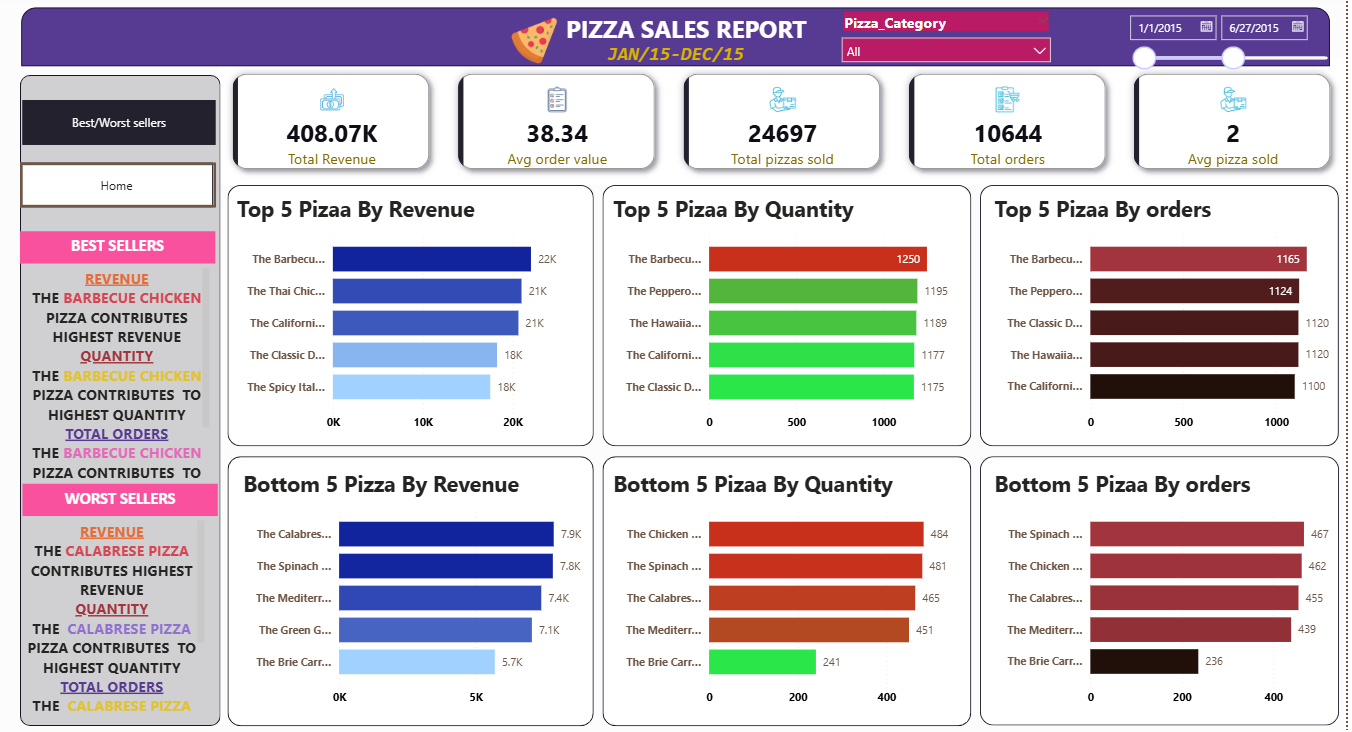

The page's visual inventory and layout, read from the dashboard file:
{"tool":"powerbi","page":{"name":"Best/Worst sellers","canvas":[1500,820],"ordinal":1},"visuals":[{"type":"cardVisual","fields":{"Data":["pizza_sales.Total Revenue","pizza_sales.Avg order value","pizza_sales.Total pizzas sold","pizza_sales.Total orders","pizza_sales.Avg pizza sold"]},"box":[242.3,65.5,1257.6,140.7],"z":0},{"type":"shape","box":[23.7,8.4,1458.1,65.5],"z":1000},{"type":"textbox","box":[596.1,8.4,337,55.7],"z":2000},{"type":"textbox","box":[661.5,41.8,182.4,41.8],"z":3000},{"type":"image","box":[564,12.5,62.7,65.5],"z":4000},{"type":"shape","box":[253.5,508.3,408.1,300.8],"z":5000},{"type":"shape","box":[671.3,206.1,410.8,291.1],"z":6000},{"type":"shape","box":[1091.9,206.1,399.7,291.1],"z":7000},{"type":"shape","box":[22.5,83.6,223.5,725.2],"z":8000},{"type":"textbox","box":[25.1,539,217.3,36.2],"z":9000},{"type":"textbox","box":[29.2,293.9,208.9,245.1],"z":10000},{"type":"textbox","box":[22.3,257.6,217.3,36.2],"z":11000},{"type":"textbox","box":[23.7,575.2,208.9,221.4],"z":12000},{"type":"slicer","fields":{"Values":["pizza_sales.pizza_category"]},"box":[927.5,8.4,253.5,299.4],"z":13000},{"type":"shape","box":[253.5,206.1,408.1,291.1],"z":14000},{"type":"shape","box":[671.3,508.3,410.8,300.8],"z":15000},{"type":"shape","box":[1091.4,508.6,400,300],"z":16000},{"type":"barChart","title":"Top 5 Pizaa By Revenue","fields":{"Category":["pizza_sales.pizza_name"],"Y":["pizza_sales.Total Revenue"]},"box":[258.9,215.5,397.2,273.4],"z":17000},{"type":"barChart","title":"Bottom 5 Pizza By Revenue","fields":{"Category":["pizza_sales.pizza_name"],"Y":["pizza_sales.Total Revenue"]},"box":[265.3,522.6,397.2,273.4],"z":18000},{"type":"barChart","title":"Top 5 Pizaa By Quantity","fields":{"Category":["pizza_sales.pizza_name"],"Y":["pizza_sales.Total pizzas sold"]},"box":[678.6,215.5,397.2,273.4],"z":19000},{"type":"barChart","title":"Bottom 5 Pizaa By Quantity","fields":{"Category":["pizza_sales.pizza_name"],"Y":["pizza_sales.Total pizzas sold"]},"box":[678.6,522.6,397.2,273.4],"z":20000},{"type":"barChart","title":"Top 5 Pizaa By  orders","fields":{"Category":["pizza_sales.pizza_name"],"Y":["pizza_sales.Total orders"]},"box":[1102.9,215.7,397.1,272.9],"z":21000},{"type":"barChart","title":"Bottom 5 Pizaa By orders","fields":{"Category":["pizza_sales.pizza_name"],"Y":["pizza_sales.Total orders"]},"box":[1102.9,522.9,397.1,272.9],"z":22000},{"type":"slicer","fields":{"Values":["pizza_sales.order_date"]},"box":[1246.4,7,253.5,299.4],"z":23000},{"type":"pageNavigator","box":[25.1,111.4,215.9,50.1],"z":24000},{"type":"pageNavigator","box":[22.3,181,215.9,50.1],"z":25000},{"type":"actionButton","box":[22.3,181,218.6,50.1],"z":26000}]}

Visuals, with their boxes in screenshot pixels (x1, y1, x2, y2), scaled from the page's 1500x820 canvas onto the 1352x732 screenshot:
cardVisual - pizza_sales.Total Revenue x pizza_sales.Avg order value: {"x1": 218, "y1": 58, "x2": 1351, "y2": 184}
shape: {"x1": 21, "y1": 7, "x2": 1336, "y2": 66}
textbox: {"x1": 537, "y1": 7, "x2": 841, "y2": 57}
textbox: {"x1": 596, "y1": 37, "x2": 761, "y2": 75}
image: {"x1": 508, "y1": 11, "x2": 565, "y2": 70}
shape: {"x1": 228, "y1": 454, "x2": 596, "y2": 722}
shape: {"x1": 605, "y1": 184, "x2": 975, "y2": 444}
shape: {"x1": 984, "y1": 184, "x2": 1344, "y2": 444}
shape: {"x1": 20, "y1": 75, "x2": 222, "y2": 722}
textbox: {"x1": 23, "y1": 481, "x2": 218, "y2": 513}
textbox: {"x1": 26, "y1": 262, "x2": 215, "y2": 481}
textbox: {"x1": 20, "y1": 230, "x2": 216, "y2": 262}
textbox: {"x1": 21, "y1": 513, "x2": 210, "y2": 711}
slicer - pizza_sales.pizza_category: {"x1": 836, "y1": 7, "x2": 1064, "y2": 275}
shape: {"x1": 228, "y1": 184, "x2": 596, "y2": 444}
shape: {"x1": 605, "y1": 454, "x2": 975, "y2": 722}
shape: {"x1": 984, "y1": 454, "x2": 1344, "y2": 722}
"Top 5 Pizaa By Revenue" barChart: {"x1": 233, "y1": 192, "x2": 591, "y2": 436}
"Bottom 5 Pizza By Revenue" barChart: {"x1": 239, "y1": 467, "x2": 597, "y2": 711}
"Top 5 Pizaa By Quantity" barChart: {"x1": 612, "y1": 192, "x2": 970, "y2": 436}
"Bottom 5 Pizaa By Quantity" barChart: {"x1": 612, "y1": 467, "x2": 970, "y2": 711}
"Top 5 Pizaa By  orders" barChart: {"x1": 994, "y1": 193, "x2": 1351, "y2": 436}
"Bottom 5 Pizaa By orders" barChart: {"x1": 994, "y1": 467, "x2": 1351, "y2": 710}
slicer - pizza_sales.order_date: {"x1": 1123, "y1": 6, "x2": 1351, "y2": 274}
pageNavigator: {"x1": 23, "y1": 99, "x2": 217, "y2": 144}
pageNavigator: {"x1": 20, "y1": 162, "x2": 215, "y2": 206}
actionButton: {"x1": 20, "y1": 162, "x2": 217, "y2": 206}
